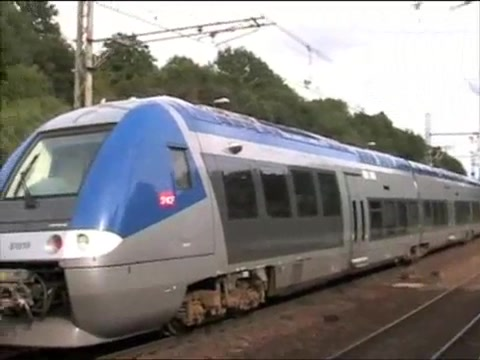train: (1, 92, 480, 360)
